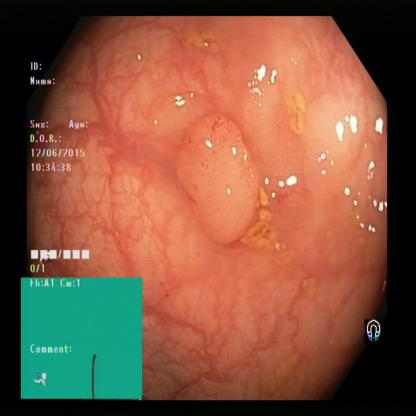Labels: (26, 57, 110, 274), (19, 275, 141, 400), (362, 309, 390, 352)
Polyps: (179, 112, 273, 240)
